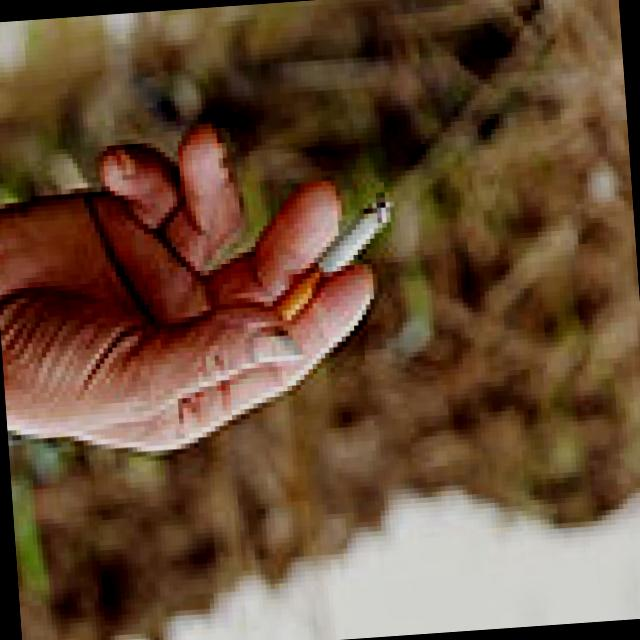smoke: (268, 186, 402, 322)
